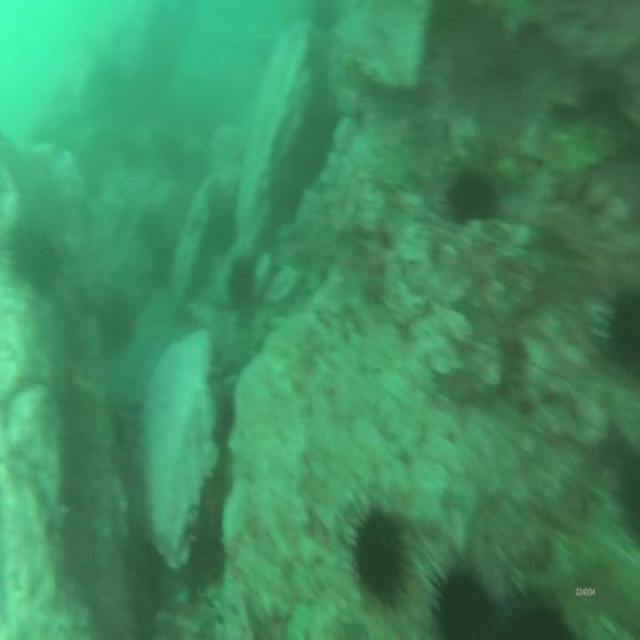echinus: (346, 494, 415, 612), (422, 553, 502, 640), (497, 575, 581, 640), (599, 272, 640, 390), (5, 217, 60, 296), (443, 167, 501, 234), (610, 439, 640, 548), (204, 193, 239, 261), (99, 297, 137, 359), (226, 258, 260, 316)
